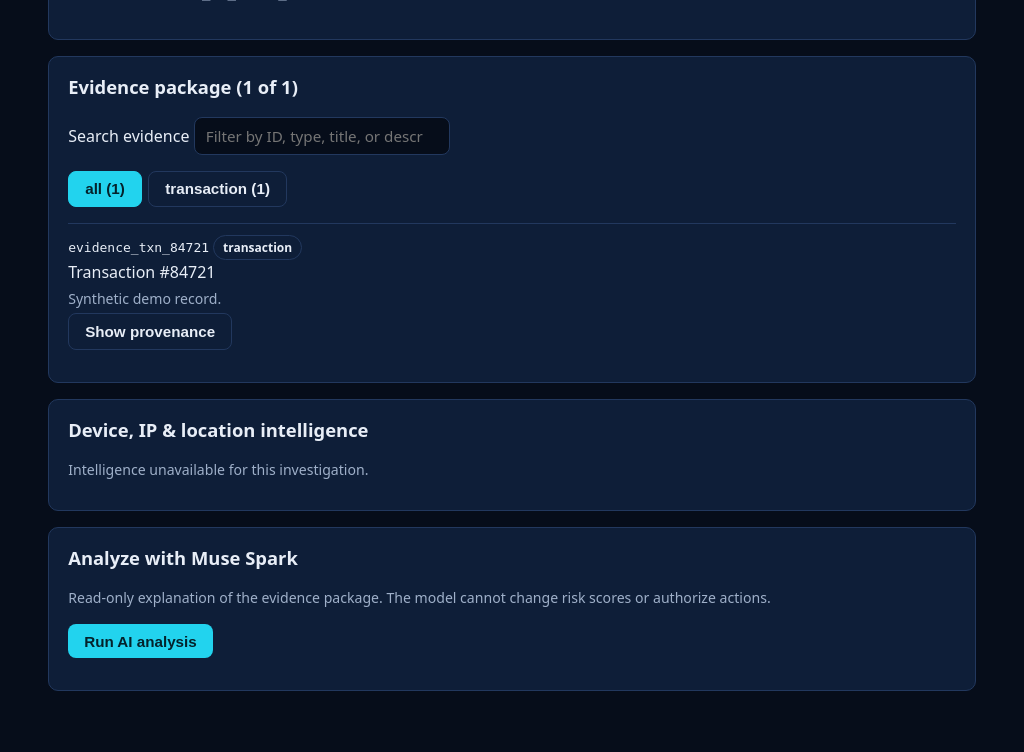
Scenario: InvestigationPage › keeps risk and evidence intact when analysis succeeds
(page scrolled)
What coordinates should you click on to do the following:
click the button "Run AI analysis"
I would click on:
 (140, 641)
Its box is [68,624,213,658].
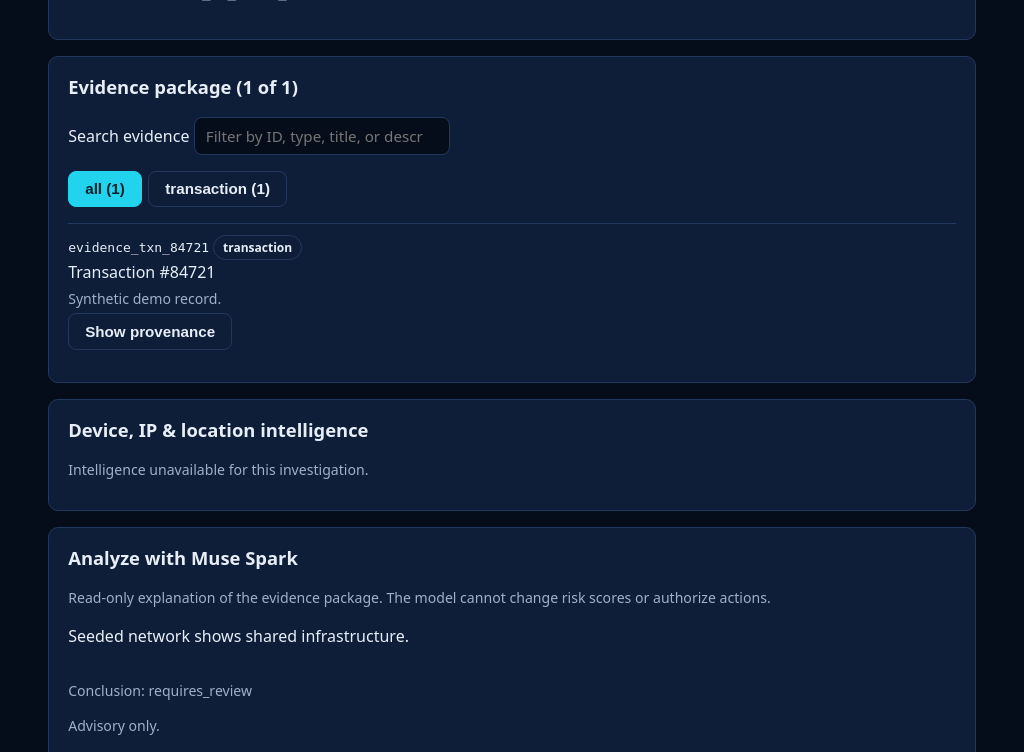
Check: the text "evidence_txn_84721" is shown, box [68,240,209,255]
Check: the text "Seeded network shows shared infrastructure." is shown, box [68,625,409,647]
